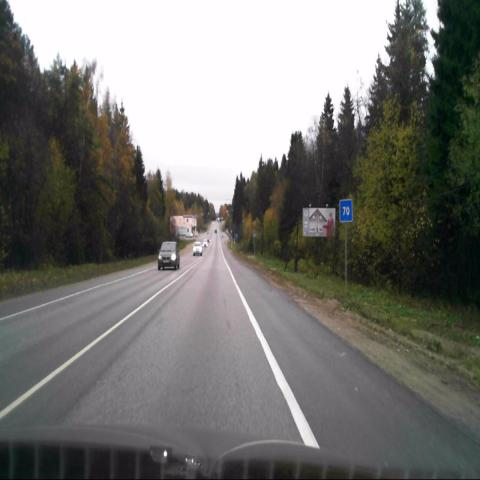6_2: (339, 200, 352, 222)
